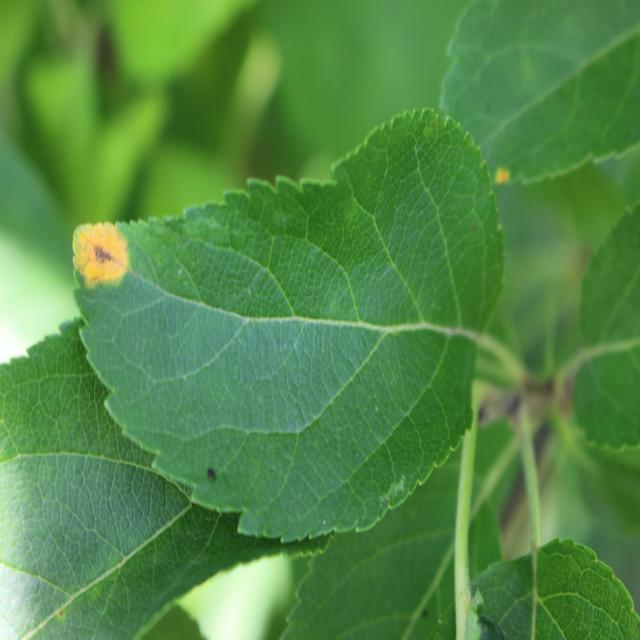rust: (71, 107, 506, 542)
